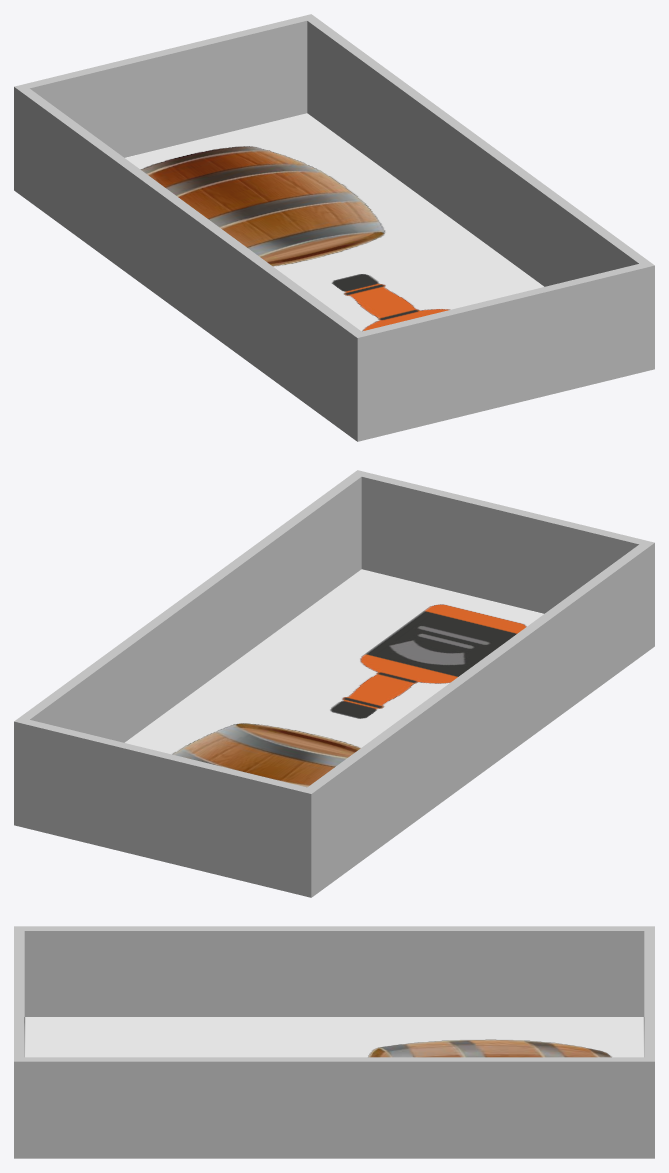
The model's file is bin_bootlegger_no_lid.dae.
3 renders of one model, top to bottom at view 1: azimuth 30°, elevation 25°; view 2: azimuth 150°, elevation 25°; view 3: azimuth 270°, elevation 25°, orthographic. The views are drawn at different scales.
Parts seen in each view (by area): view 1: Cube; view 2: Cube; view 3: Cube.
Boxes of the visible parts, box(x1,y1,x2,y2) form: Cube: box(14, 14, 654, 441); Cube: box(14, 470, 654, 897); Cube: box(14, 926, 654, 1158).
Bounding box in the file's own units: 0.3 × 0.6 × 0.1.
Materials: 2 (1 with a texture image).
